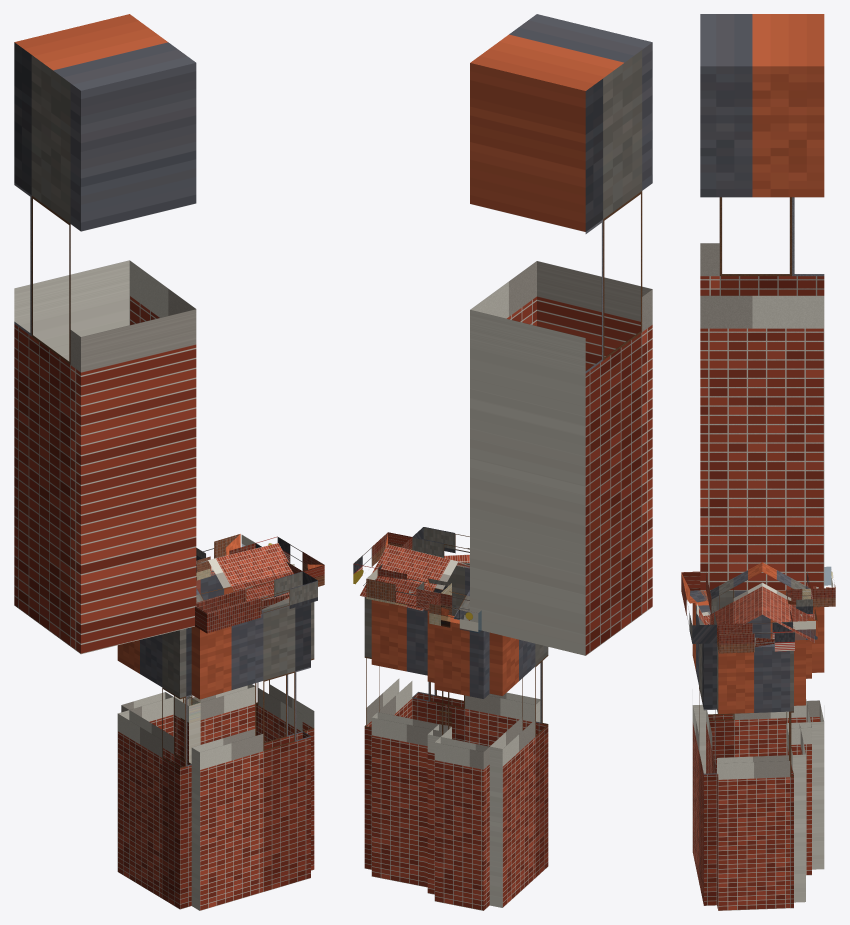
3 renders of one model, left to right at view 1: azimuth 30°, elevation 25°; view 2: azimuth 150°, elevation 25°; view 3: azimuth 270°, elevation 25°, orthographic. The views are drawn at different scales.
Parts seen in each view (by area): view 1: 1106966927__chimney_0_xb, 1106966927__wall_0_xb, 1106966927__wall_1_xb, 1106966927__wall_4_xb, 1106966927__cornice_0, 1106966927_roof_-1_xb, 1106966927__wall_5_xb, 1106966927__wall_2_xb, 1106966927__wall_3_xb, 1106966927__cornice_5, 1106966927__cornice_4; view 2: 1106966927__chimney_0_xb, 1106966927__wall_4_xb, 1106966927__wall_2_xb, 1106966927__wall_1_xb, 1106966927__wall_0_xb, 1106966927_roof_1_xb, 1106966927__wall_5_xb, 1106966927__wall_3_xb, 1106966927__cornice_0, 1106966927__cornice_4, 1106966927__cornice_2, 1106966927__cornice_5; view 3: 1106966927__chimney_0_xb, 1106966927__wall_5_xb, 1106966927__wall_0_xb, 1106966927__wall_1_xb, 1106966927__wall_2_xb, 1106966927__wall_4_xb, 1106966927__cornice_5, 1106966927_roof_-1_xb, 1106966927_roof_1_xb, 1106966927__wall_3_xb, 1106966927__cornice_0, 1106966927__cornice_2 (+2 smaller).
Part boxes in pixels (<box>): 1106966927__chimney_0_xb: <box>14,14,196,654</box>; 1106966927__wall_0_xb: <box>191,598,310,910</box>; 1106966927__wall_1_xb: <box>117,627,191,909</box>; 1106966927__wall_4_xb: <box>180,570,255,762</box>; 1106966927__cornice_0: <box>195,571,317,633</box>; 1106966927_roof_-1_xb: <box>196,543,293,602</box>; 1106966927__wall_5_xb: <box>256,602,314,870</box>; 1106966927__wall_2_xb: <box>121,692,173,736</box>; 1106966927__wall_3_xb: <box>173,579,200,763</box>; 1106966927__cornice_5: <box>255,536,324,586</box>; 1106966927__cornice_4: <box>196,534,255,576</box>; 1106966927__chimney_0_xb: <box>470,14,652,655</box>; 1106966927__wall_4_xb: <box>371,600,449,887</box>; 1106966927__wall_2_xb: <box>434,615,489,910</box>; 1106966927__wall_1_xb: <box>489,632,548,907</box>; 1106966927__wall_0_xb: <box>412,562,540,746</box>; 1106966927_roof_1_xb: <box>360,544,469,619</box>; 1106966927__wall_5_xb: <box>364,597,412,869</box>; 1106966927__wall_3_xb: <box>427,611,451,894</box>; 1106966927__cornice_0: <box>412,527,469,567</box>; 1106966927__cornice_4: <box>366,568,451,606</box>; 1106966927__cornice_2: <box>429,593,481,632</box>; 1106966927__cornice_5: <box>353,532,412,585</box>; 1106966927__chimney_0_xb: <box>700,14,824,590</box>; 1106966927__wall_5_xb: <box>717,643,793,910</box>; 1106966927__wall_0_xb: <box>692,590,716,905</box>; 1106966927__wall_1_xb: <box>708,590,806,771</box>; 1106966927__wall_2_xb: <box>806,607,824,869</box>; 1106966927__wall_4_xb: <box>786,631,805,902</box>; 1106966927__cornice_5: <box>717,621,794,653</box>; 1106966927_roof_-1_xb: <box>710,562,762,634</box>; 1106966927_roof_1_xb: <box>762,562,814,642</box>; 1106966927__wall_3_xb: <box>786,640,811,875</box>; 1106966927__cornice_0: <box>681,571,716,643</box>; 1106966927__cornice_2: <box>807,566,835,607</box>.
Bounding box in the file's own units: 0.3299 × 1.05 × 0.1868.
Materials: 1 (1 with a texture image).
